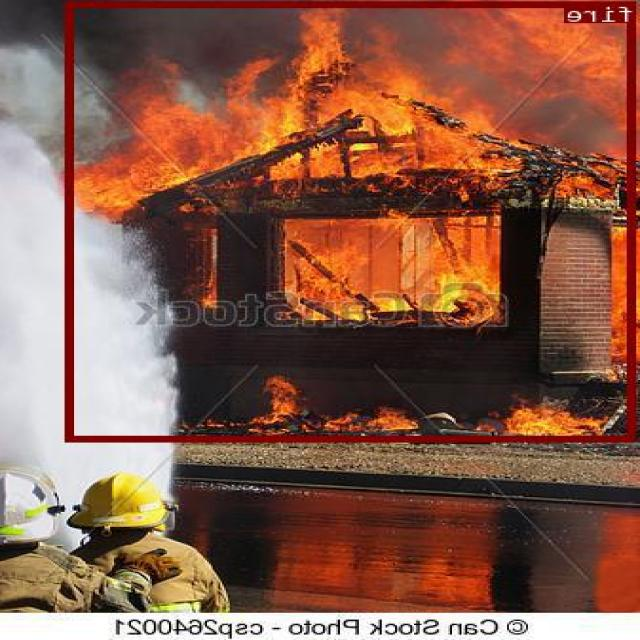fire: (68, 1, 636, 440)
